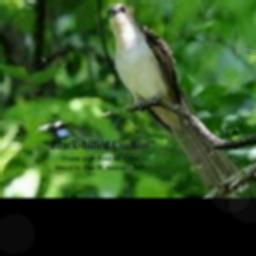Cuckoo: (106, 3, 247, 198)
